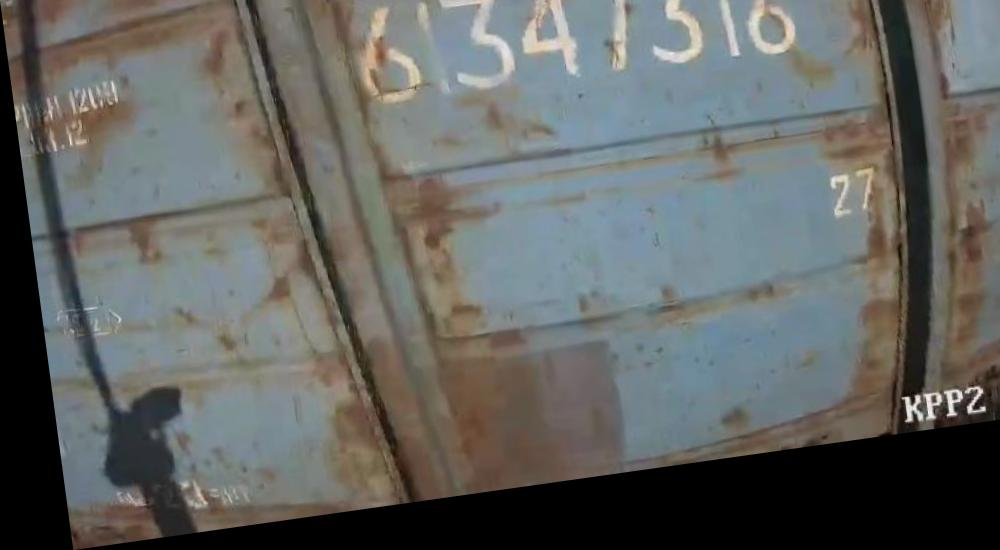Wagon-number: (337, 0, 802, 127)
